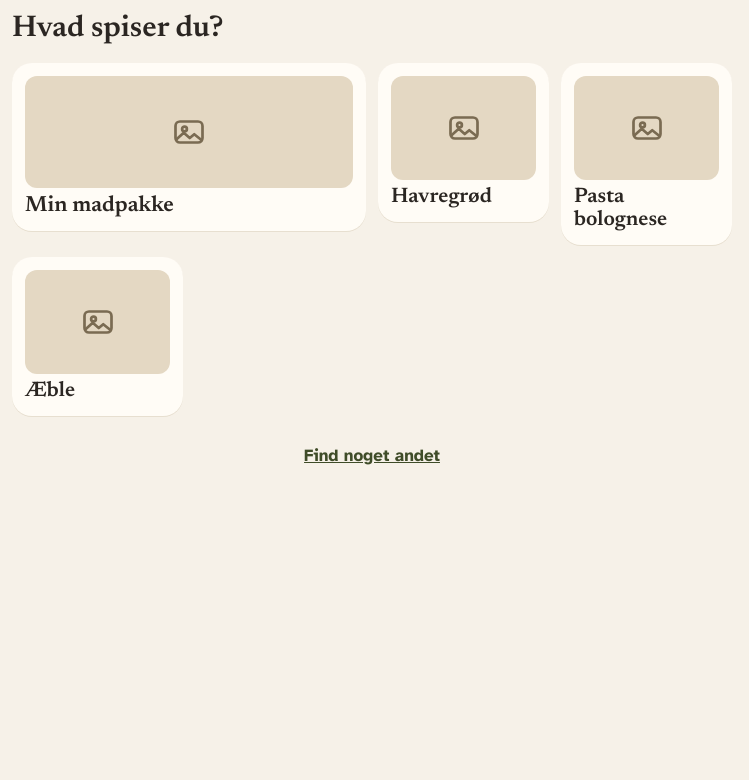
Scenario: Hvad spiser du? (Log-Simpel, simpleMode) › says 'Det blev ikke gemt – prøv igen' when the save fails, and stays
The width and height of the screenshot is (749, 780).
Click the button "Min madpakke" at (189, 147), box [12, 62, 366, 231]
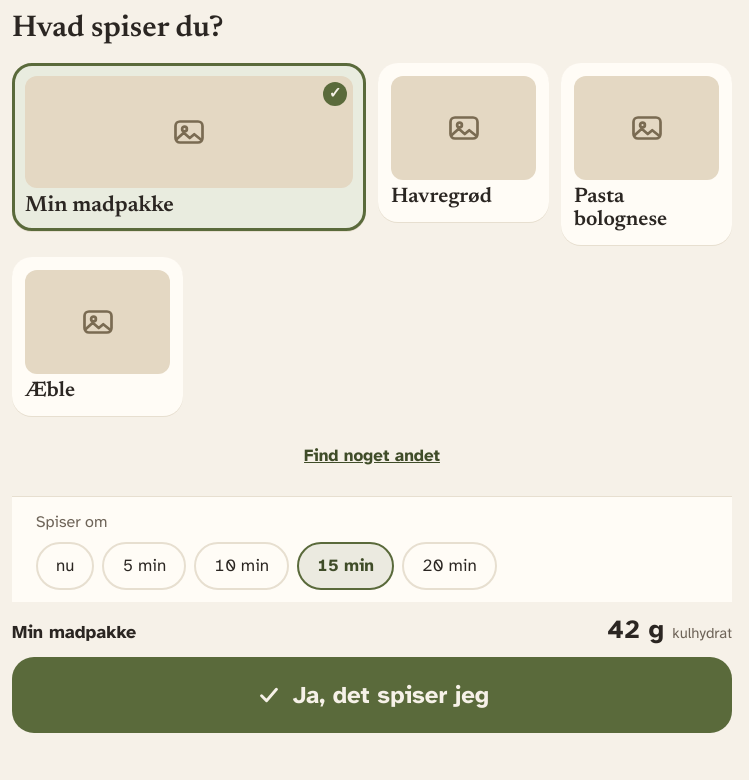
Click the button "Ja, det spiser jeg" at (372, 695), box [12, 657, 732, 733]
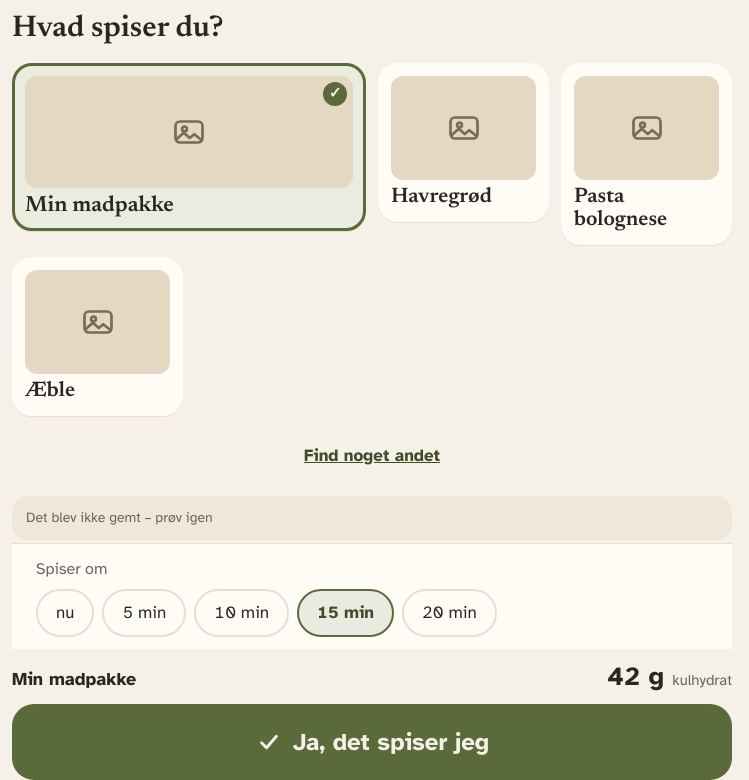
Now the button "Ja, det spiser jeg" is enabled, box [12, 704, 732, 779]
Now the message reads "Det blev ikke gemt – prøv igen", box [26, 509, 213, 526]
